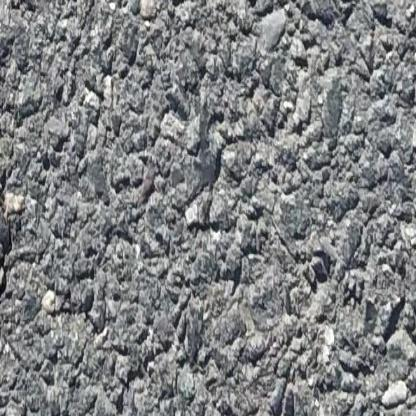Cracks: (0, 39, 19, 381), (0, 0, 8, 29)
